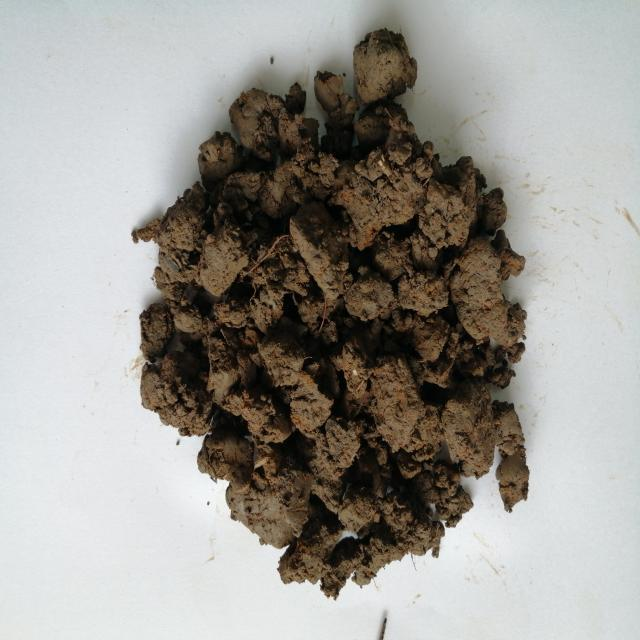soil: (207, 186, 488, 497)
